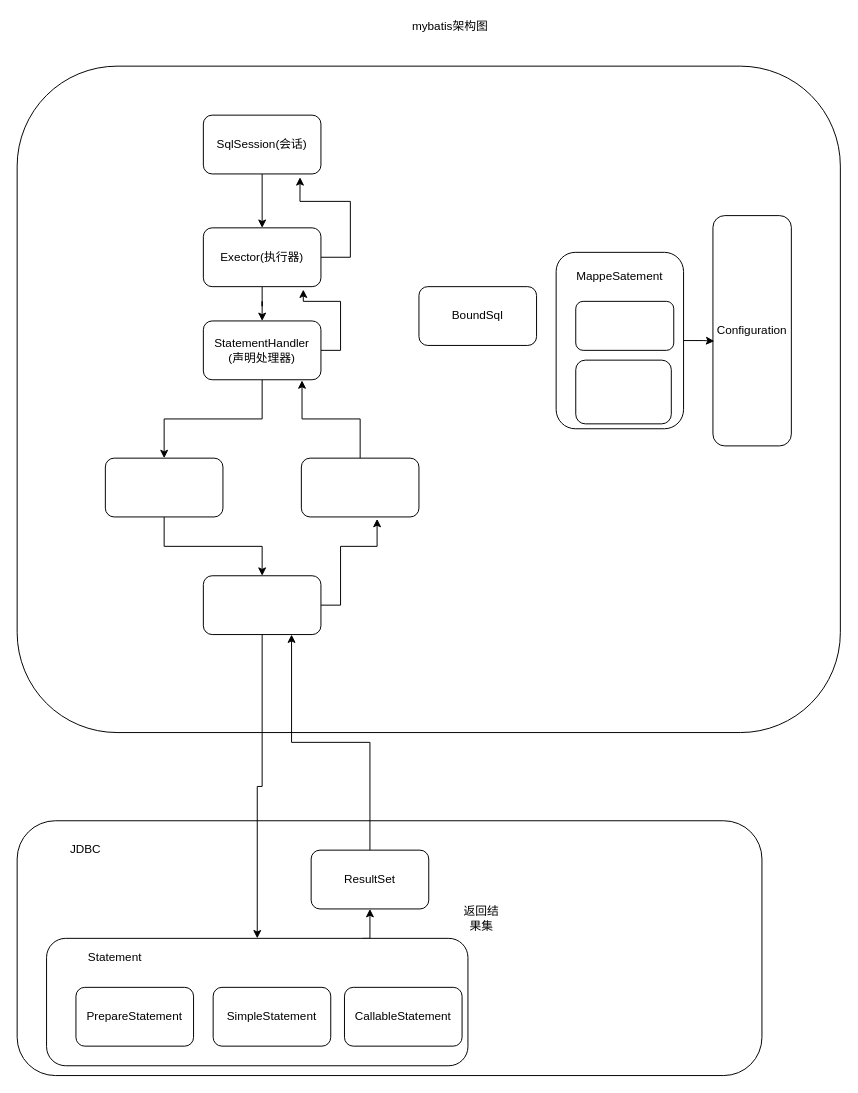
The diagram is 858 pixels wide and 1093 high, and some of its shapes have lost their labels. The centre of each missing label's shape, as x and y in pixels:
"ParameterHandler (参数处理器)" goes at (163,487).
"ResultMap" goes at (623,391).
"ResultSetHandler (结果映射器)" goes at (359,487).
"SqlSource" goes at (624,325).
"TypeHandler (类型转换器)" goes at (261,605).
